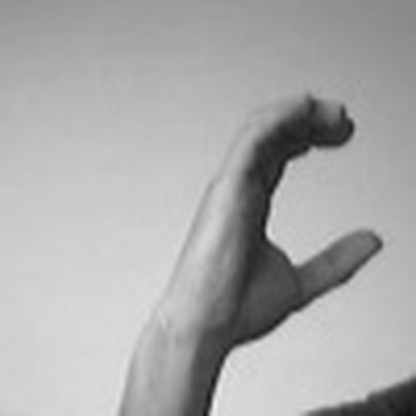c: (157, 76, 393, 343)
